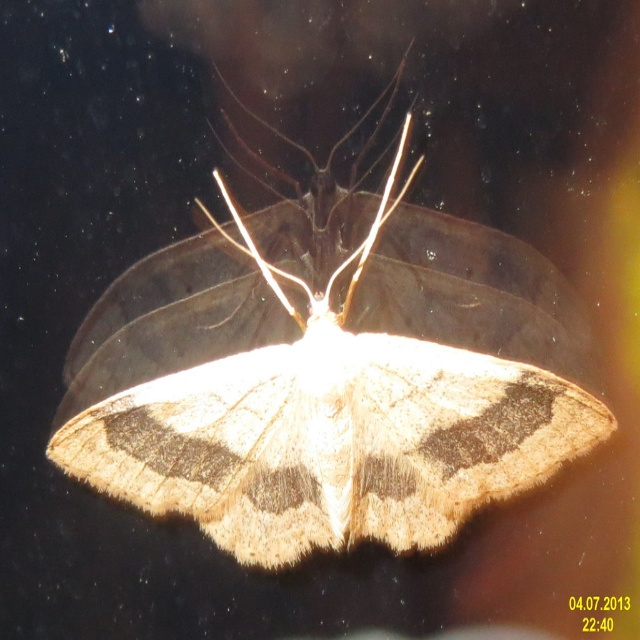Moths and butterflies: (44, 111, 618, 573)
